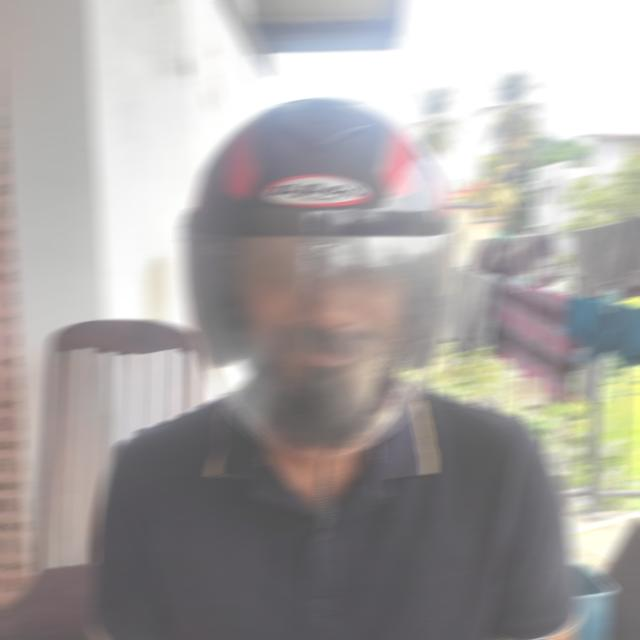With Helmet: (176, 96, 463, 460)
